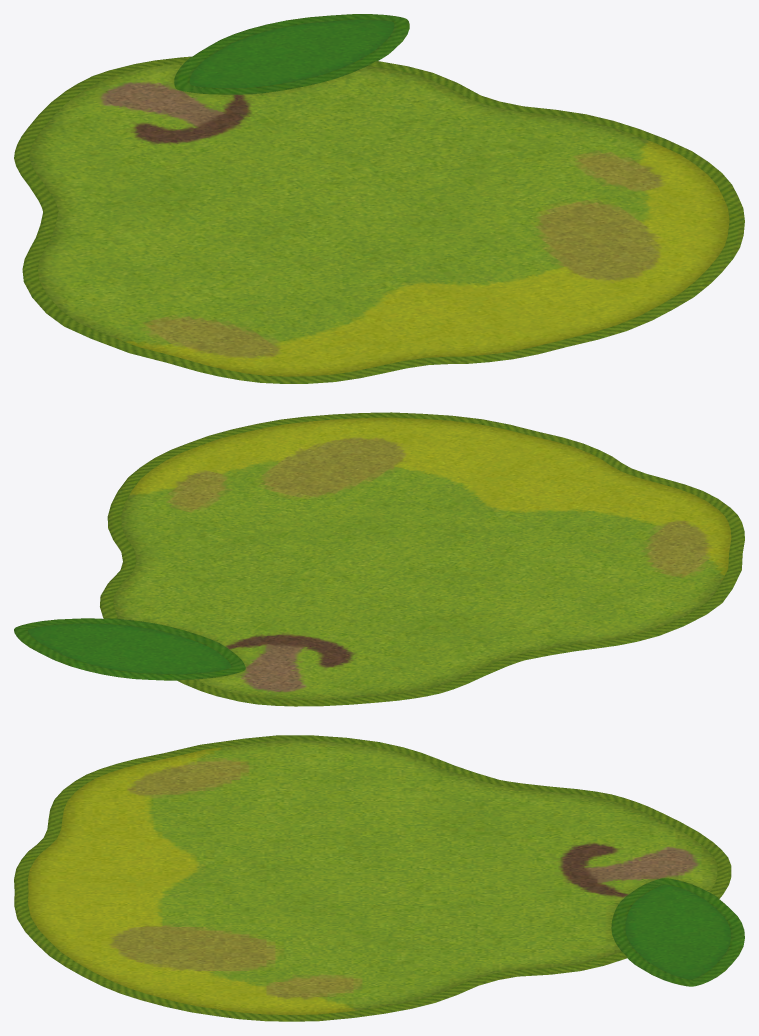
The model's file is RugOtherPearM00.glb.
The picture shows the model from 3 angles, top to bottom: view 1: azimuth 30°, elevation 25°; view 2: azimuth 150°, elevation 25°; view 3: azimuth 270°, elevation 25°; orthographic projection. The views are drawn at different scales.
Visible parts, largest first — view 1: Edge__mMain; view 2: Edge__mMain; view 3: Edge__mMain.
Part boxes in pixels (x1=…): Edge__mMain: x1=14, y1=14, x2=744, y2=383; Edge__mMain: x1=14, y1=412, x2=744, y2=706; Edge__mMain: x1=14, y1=735, x2=744, y2=1021.
Bounding box in the file's own units: 24.36 × 0.03 × 26.26.
1 material, 1 textured.
